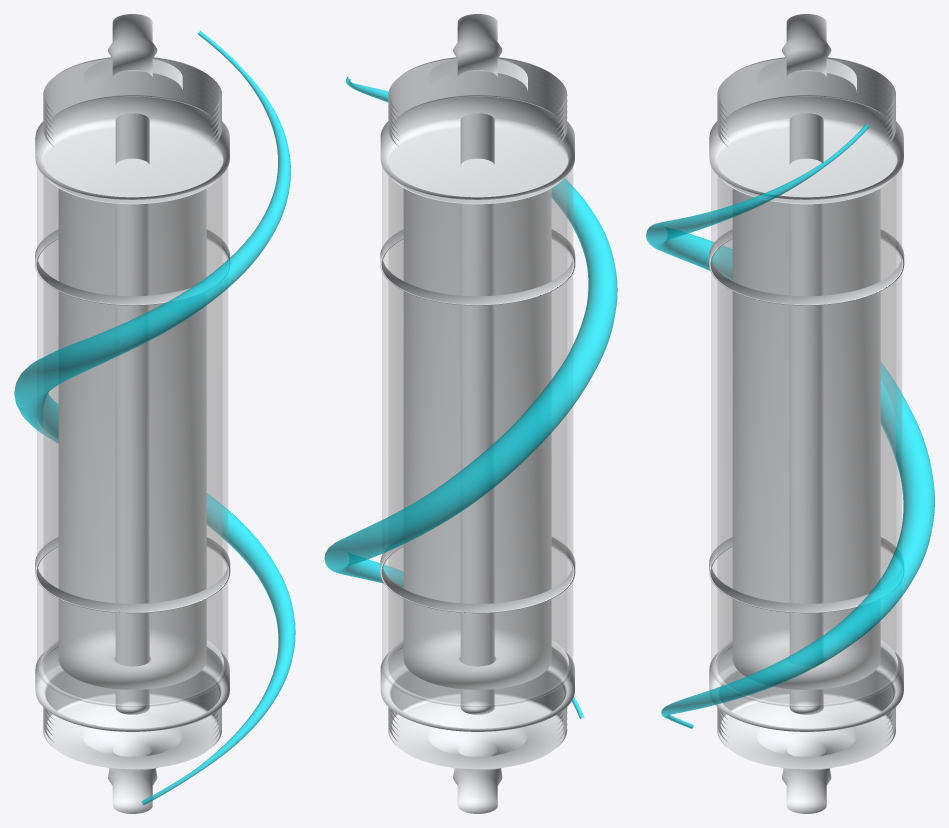
File: water_purifier_cartridge.glb
3 views of the same model, side by side, from view 1: azimuth 30°, elevation 25°; view 2: azimuth 150°, elevation 25°; view 3: azimuth 270°, elevation 25° (orthographic).
Parts seen in each view (by area): view 1: AcrylicHousing_Glass, InternalROMembrane, TopCap_StainlessSteel, PermeateCollectorLumen, AquaLiquidSplash, BottomCap_StainlessSteel, AccentRing_Bottom, AccentRing_Top; view 2: AcrylicHousing_Glass, InternalROMembrane, TopCap_StainlessSteel, PermeateCollectorLumen, AquaLiquidSplash, BottomCap_StainlessSteel, AccentRing_Top, AccentRing_Bottom; view 3: AcrylicHousing_Glass, InternalROMembrane, TopCap_StainlessSteel, PermeateCollectorLumen, BottomCap_StainlessSteel, AquaLiquidSplash, AccentRing_Top, AccentRing_Bottom.
Part boxes in pixels (x1=…): AcrylicHousing_Glass: x1=37, y1=165, x2=227, y2=707; InternalROMembrane: x1=58, y1=188, x2=206, y2=689; TopCap_StainlessSteel: x1=35, y1=14, x2=229, y2=204; PermeateCollectorLumen: x1=115, y1=113, x2=149, y2=714; AquaLiquidSplash: x1=14, y1=30, x2=295, y2=804; BottomCap_StainlessSteel: x1=35, y1=640, x2=229, y2=813; AccentRing_Bottom: x1=35, y1=537, x2=230, y2=613; AccentRing_Top: x1=35, y1=229, x2=230, y2=305; AcrylicHousing_Glass: x1=382, y1=165, x2=572, y2=707; InternalROMembrane: x1=403, y1=188, x2=551, y2=689; TopCap_StainlessSteel: x1=380, y1=14, x2=574, y2=204; PermeateCollectorLumen: x1=460, y1=113, x2=494, y2=714; AquaLiquidSplash: x1=324, y1=76, x2=617, y2=719; BottomCap_StainlessSteel: x1=380, y1=640, x2=574, y2=813; AccentRing_Top: x1=380, y1=229, x2=575, y2=305; AccentRing_Bottom: x1=380, y1=537, x2=575, y2=613; AcrylicHousing_Glass: x1=711, y1=165, x2=901, y2=707; InternalROMembrane: x1=732, y1=188, x2=880, y2=689; TopCap_StainlessSteel: x1=709, y1=14, x2=903, y2=204; PermeateCollectorLumen: x1=789, y1=113, x2=823, y2=714; BottomCap_StainlessSteel: x1=709, y1=640, x2=903, y2=813; AquaLiquidSplash: x1=646, y1=124, x2=934, y2=728; AccentRing_Top: x1=709, y1=229, x2=904, y2=305; AccentRing_Bottom: x1=709, y1=537, x2=903, y2=613.
Size of the model in its own units: 3.74 by 11.2 by 3.74.
